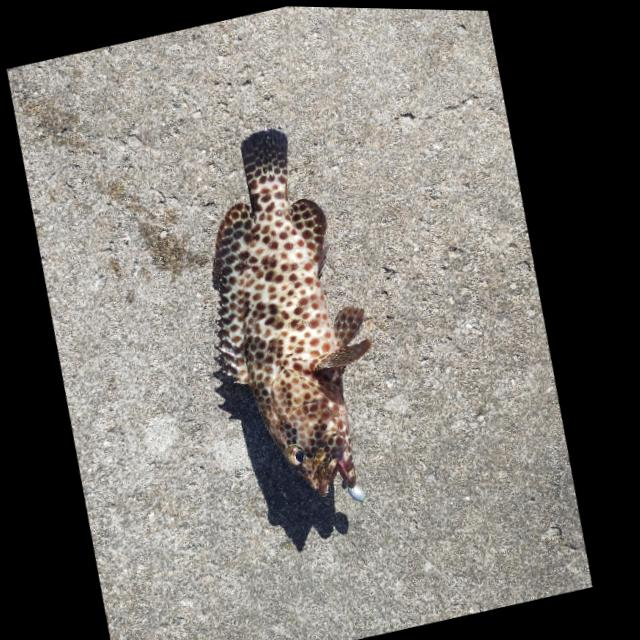Groupers: (153, 113, 420, 518)
